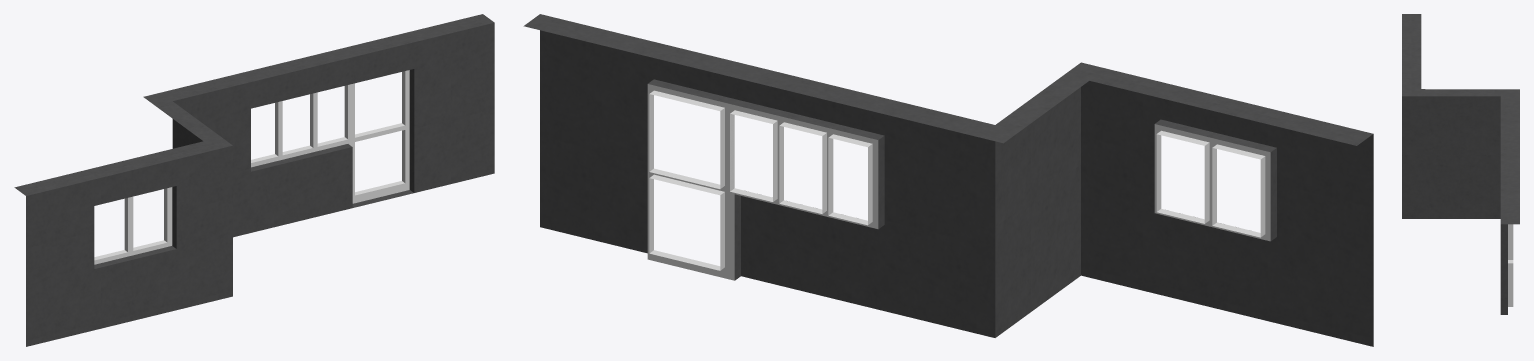
Rendered from blok.fbx.
3 views of the same model, side by side, from view 1: azimuth 30°, elevation 25°; view 2: azimuth 150°, elevation 25°; view 3: azimuth 270°, elevation 25° (orthographic). The views are drawn at different scales.
Parts seen in each view (by area): view 1: Plane; view 2: Plane; view 3: Plane.
Boxes of the visible parts, x1,y1,x2,y2 form: Plane: [14, 14, 494, 346]; Plane: [523, 14, 1373, 346]; Plane: [1402, 14, 1519, 314].
Bounding box in the file's own units: 509 × 139 × 121.
